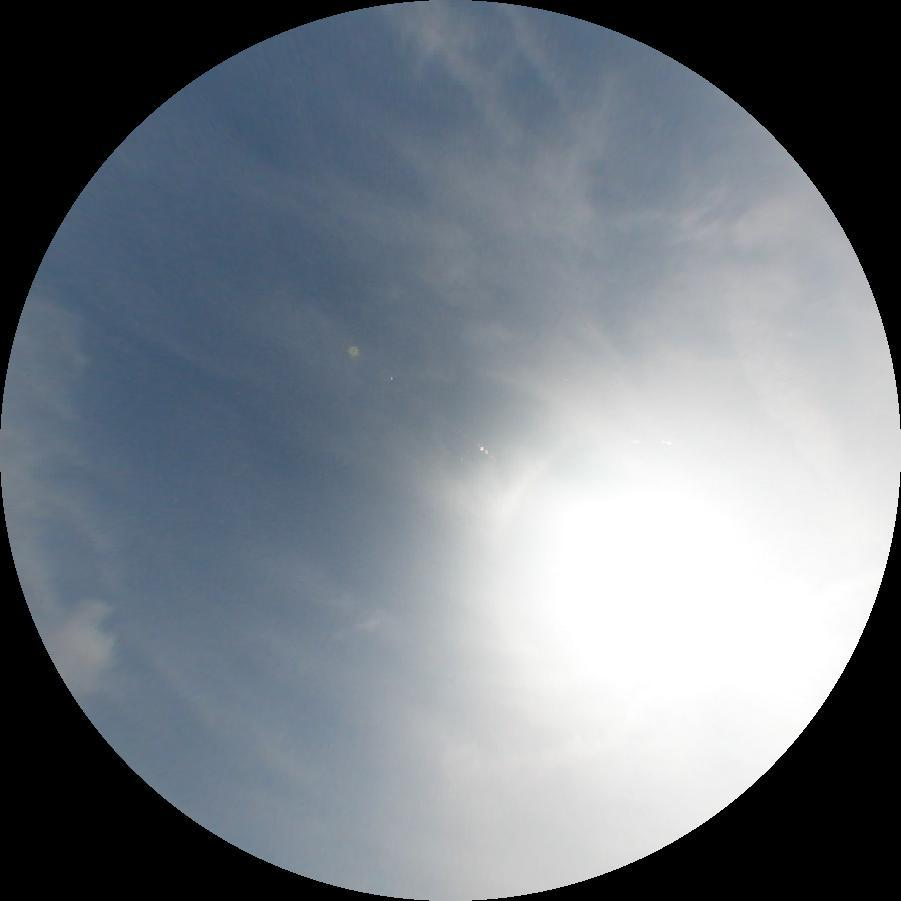contrail veryold: (497, 0, 583, 116)
sun: (562, 446, 819, 667)
